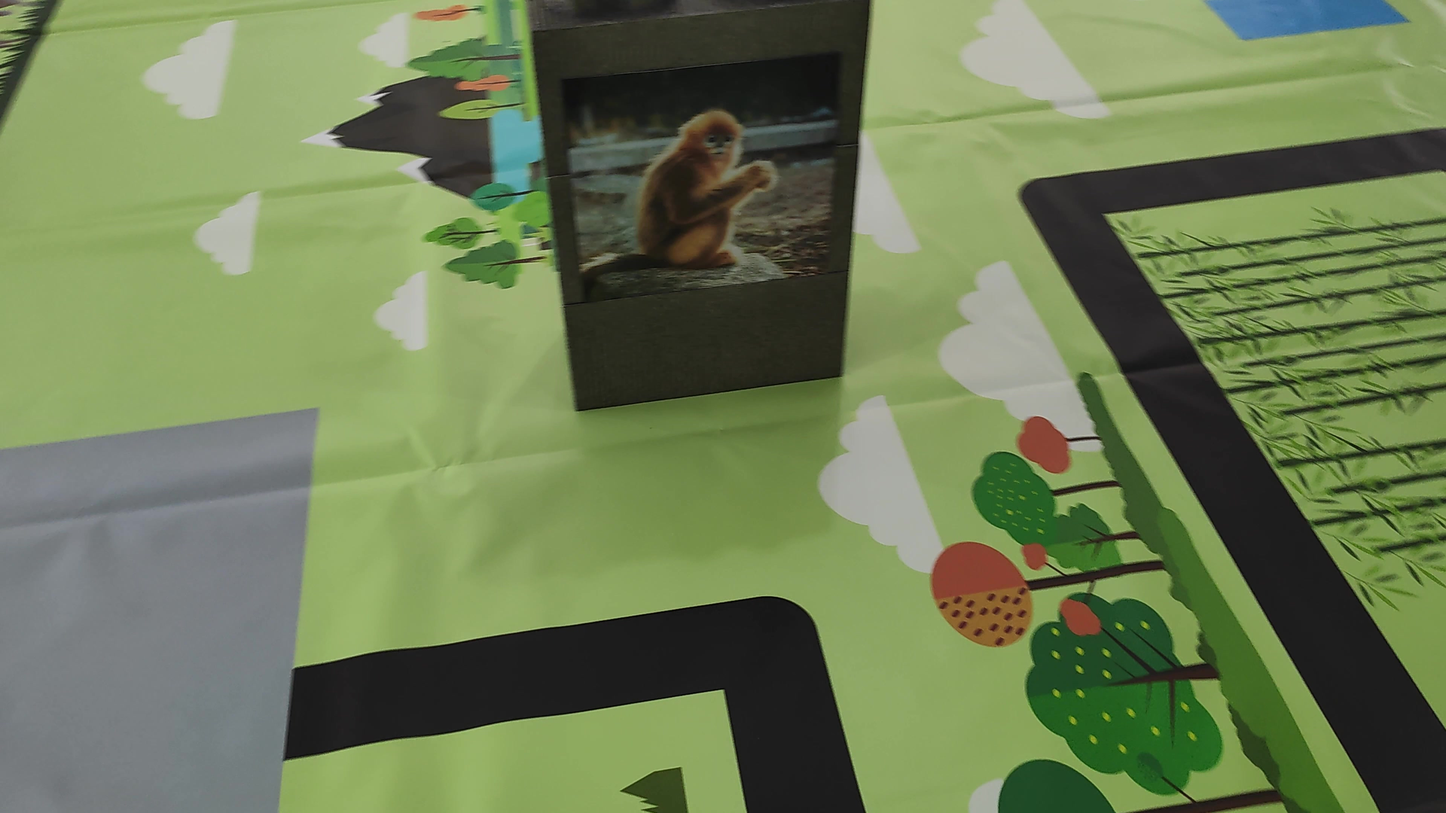monkey: (554, 70, 820, 285)
